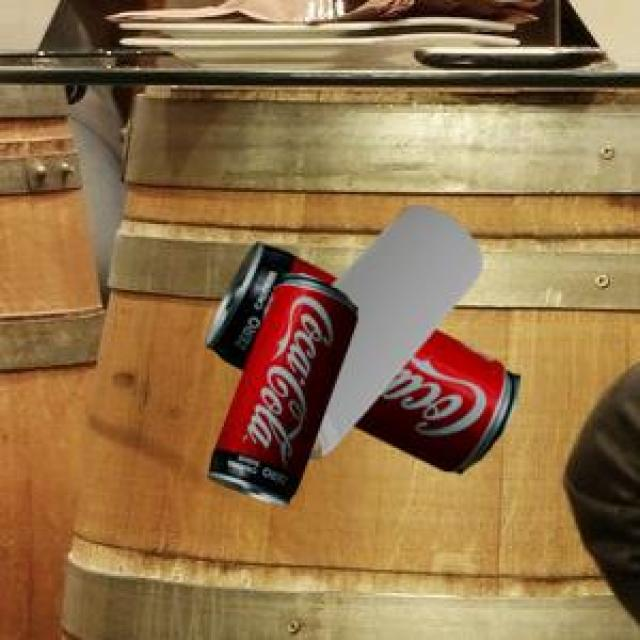logam: (304, 206, 479, 458), (206, 270, 353, 502), (340, 327, 517, 470), (204, 240, 334, 405)
